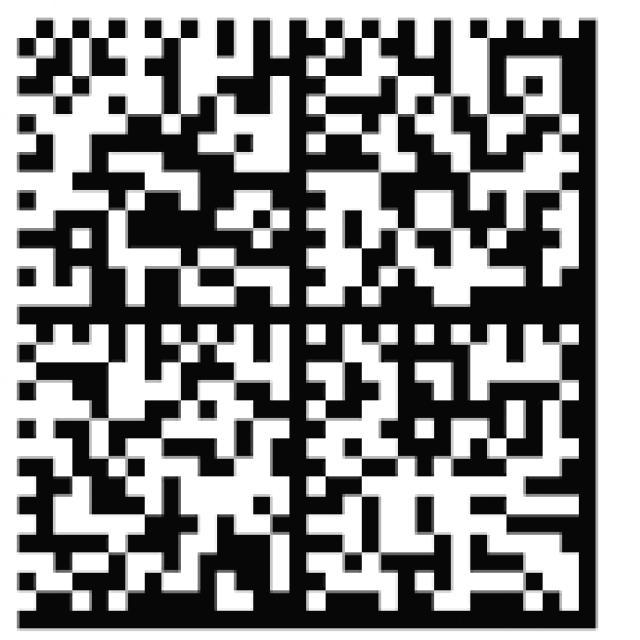Data-Matrix: (8, 12, 607, 637)
